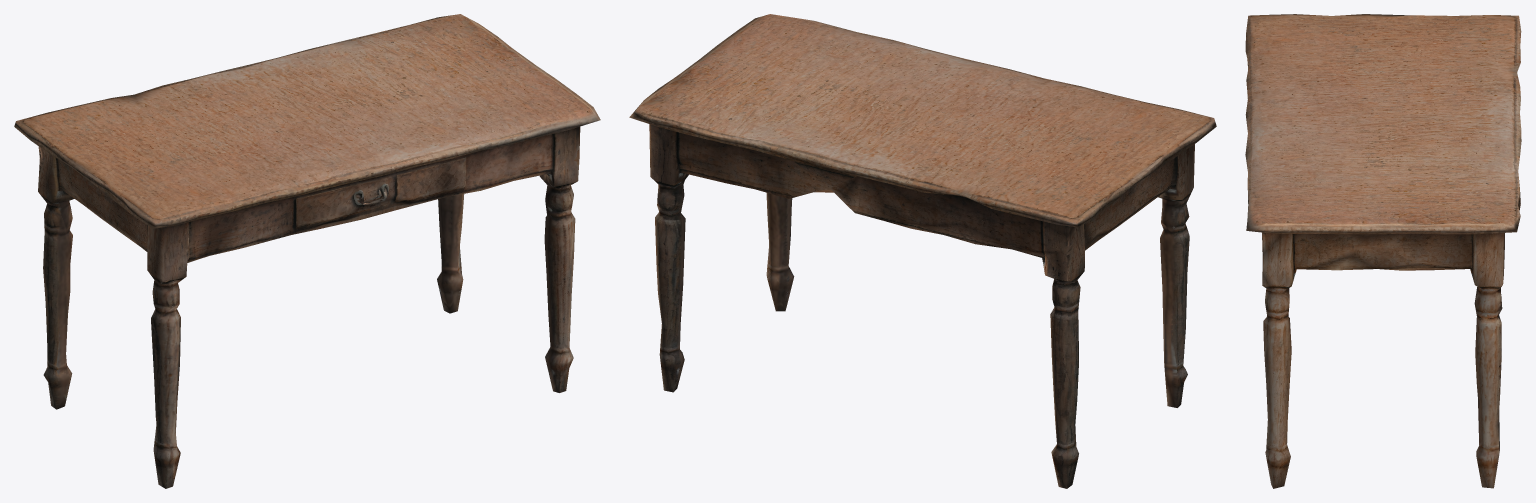
3 views of the same model, side by side, from view 1: azimuth 30°, elevation 25°; view 2: azimuth 150°, elevation 25°; view 3: azimuth 270°, elevation 25° (orthographic). The views are drawn at different scales.
Parts seen in each view (by area): view 1: texture_mapping; view 2: texture_mapping; view 3: texture_mapping.
Part boxes in pixels (bbox=[...]): texture_mapping: bbox=[14, 14, 600, 488]; texture_mapping: bbox=[629, 14, 1216, 488]; texture_mapping: bbox=[1245, 14, 1521, 488].
Bounding box in the file's own units: 0.9904 × 0.5946 × 0.5397.
Materials: 1 (1 with a texture image).
